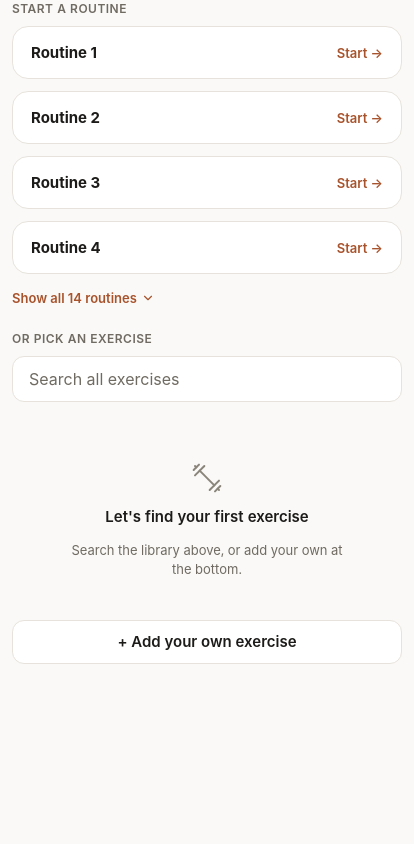
Test case: ExercisePicker routine quick-start bound › expands to the full list and collapses again
The width and height of the screenshot is (414, 844).
Click the button "Show all 14 routines" at (83, 298), box top-left (12, 286), bottom-right (155, 310)
(page scrolled)
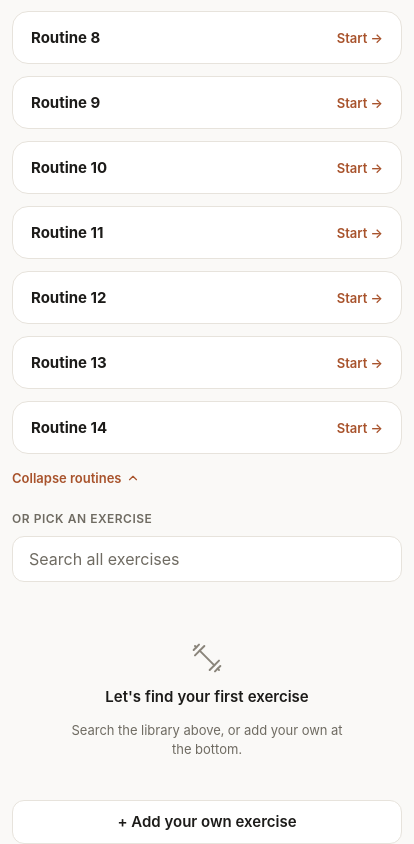
Result: the text "Routine 14" is shown at top-left (31, 418), bottom-right (107, 437)
Click the button "Collapse routines" at (76, 478), box top-left (12, 466), bottom-right (140, 490)
(page scrolled)
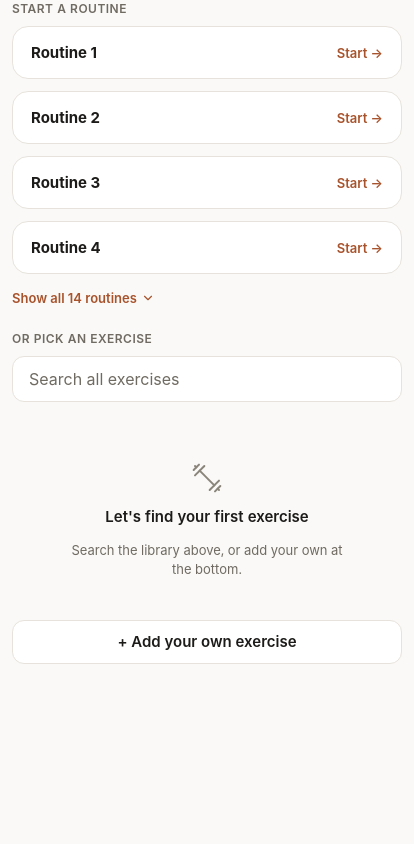
Expected: the text "Routine 4" is shown, top-left (31, 238), bottom-right (101, 257)
Result: the button "Routine 14" is gone
